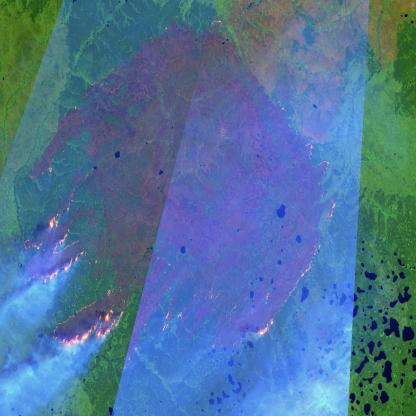fire: (289, 128, 338, 295), (23, 193, 86, 290), (51, 301, 126, 350), (246, 296, 281, 356), (212, 16, 223, 35)
